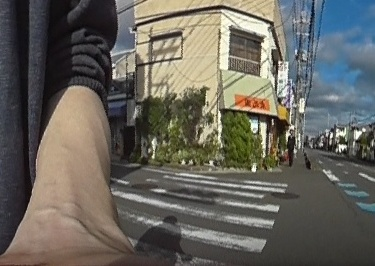person: (285, 127, 295, 166)
